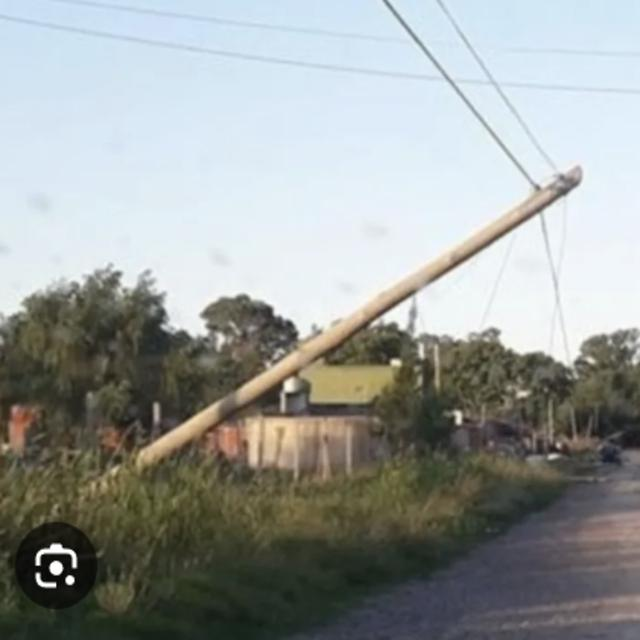Inclined Pole: (72, 161, 585, 494)
